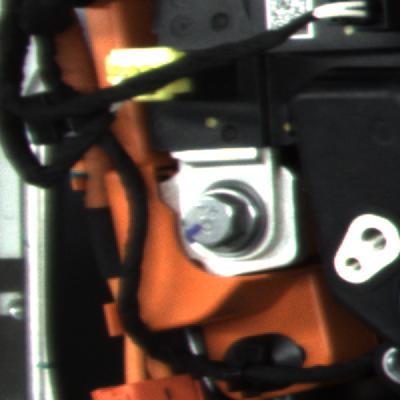nut_b: (180, 172, 278, 263)
